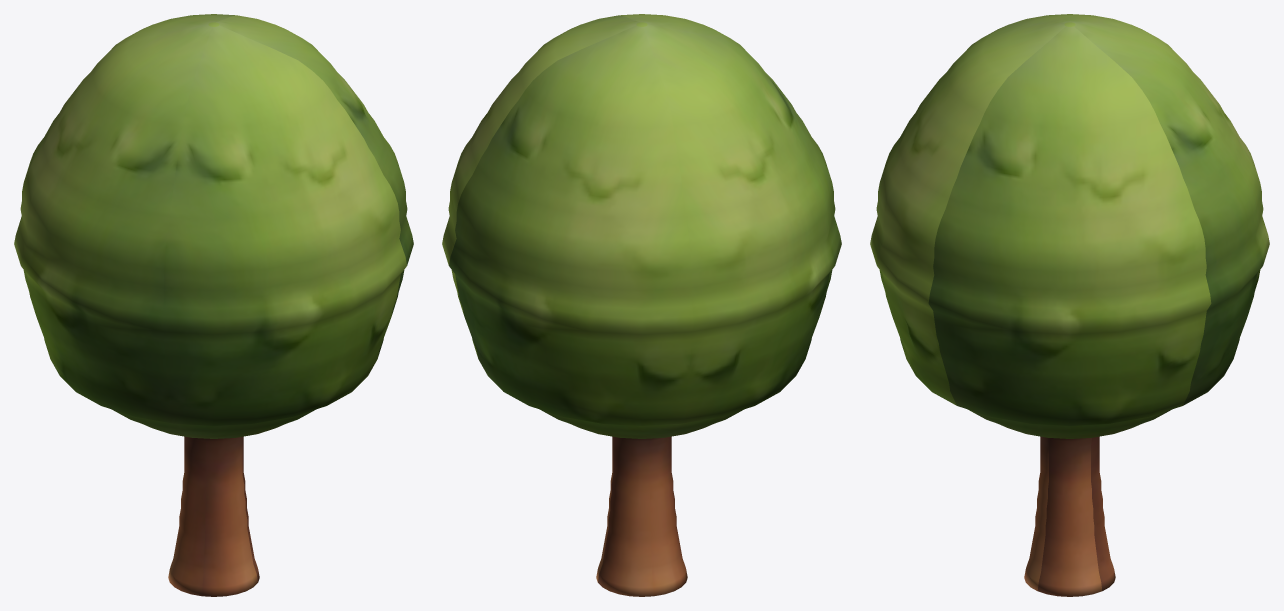
File: town-tree.glb
3 views of the same model, side by side, from view 1: azimuth 30°, elevation 25°; view 2: azimuth 150°, elevation 25°; view 3: azimuth 270°, elevation 25° (orthographic).
Parts seen in each view (by area): view 1: piece; view 2: piece; view 3: piece.
Boxes of the visible parts, x1,y1,x2,y2 form: piece: [14, 14, 413, 596]; piece: [442, 14, 841, 596]; piece: [870, 14, 1269, 596].
Bounding box in the file's own units: 2.32 × 3.6 × 2.32.
1 material, 1 textured.
